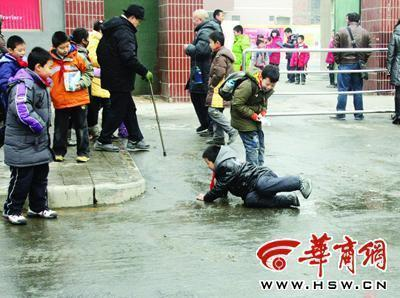Fall-Detected: (185, 139, 313, 214)
